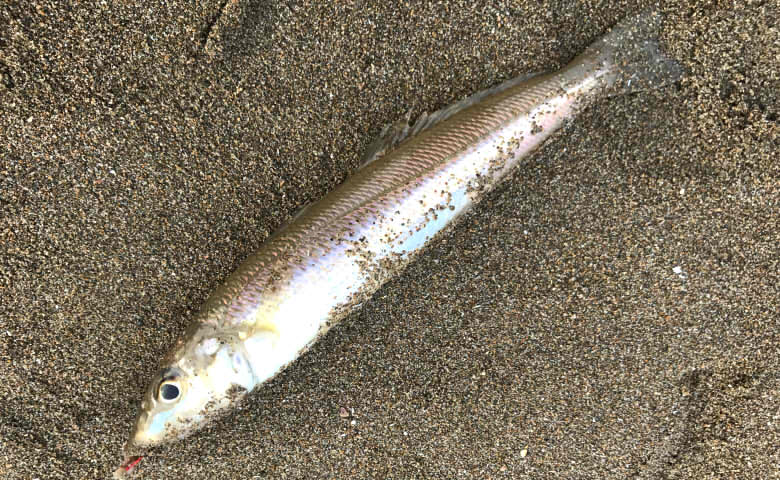kiss: (131, 21, 679, 444)
